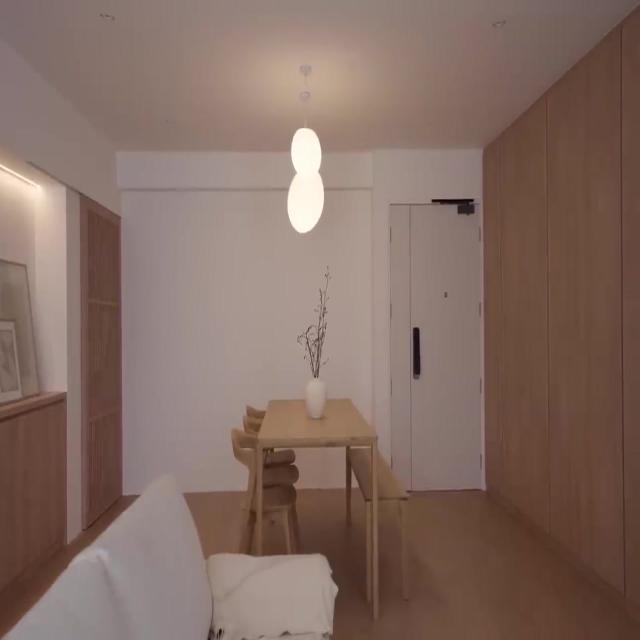door: (389, 200, 483, 492)
obstacle: (2, 470, 338, 638), (252, 397, 380, 618)
